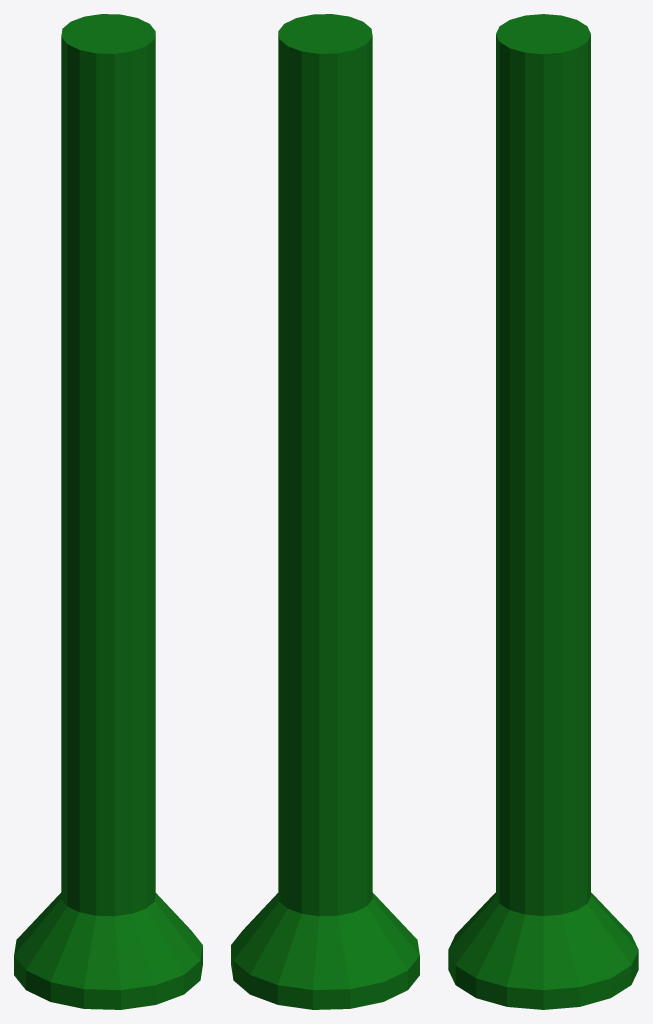
The model's file is Brause.fbx.
The picture shows the model from 3 angles, left to right: view 1: azimuth 30°, elevation 25°; view 2: azimuth 150°, elevation 25°; view 3: azimuth 270°, elevation 25°; orthographic projection.
Visible parts, largest first — view 1: Cone; view 2: Cone; view 3: Cone.
Boxes of the visible parts, x1=… form: Cone: x1=14, y1=14, x2=202, y2=1009; Cone: x1=231, y1=14, x2=419, y2=1009; Cone: x1=448, y1=14, x2=638, y2=1009.
Size of the model in its own units: 8 by 43.37 by 8.
